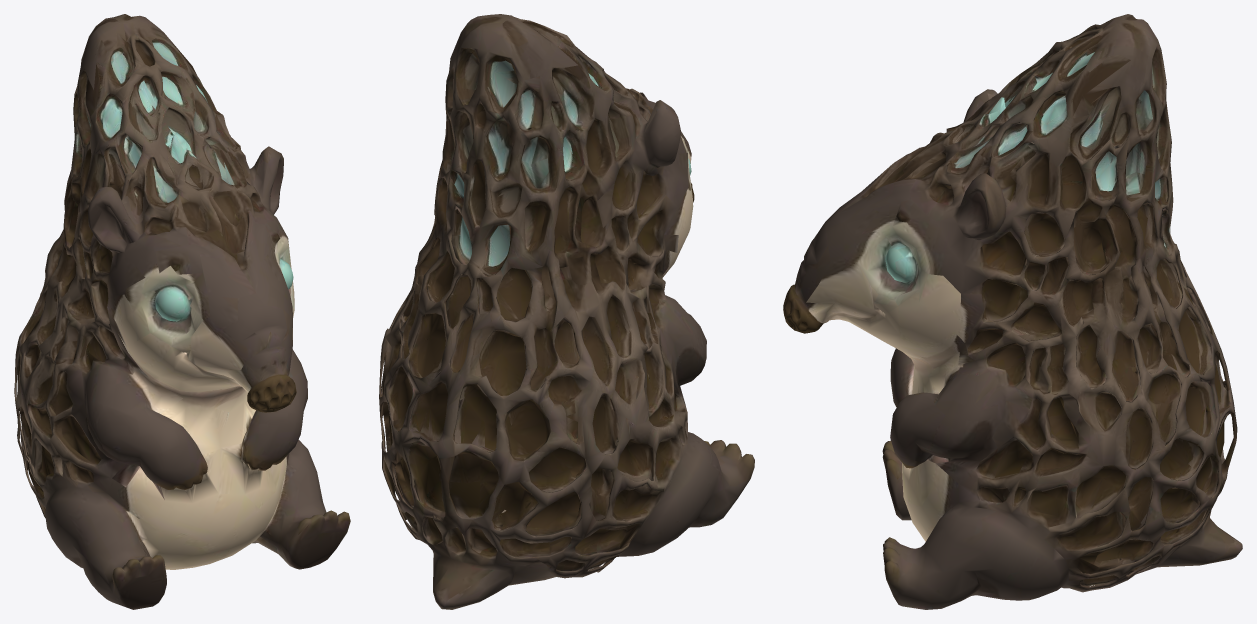
The picture shows the model from 3 angles, left to right: view 1: azimuth 30°, elevation 25°; view 2: azimuth 150°, elevation 25°; view 3: azimuth 270°, elevation 25°; orthographic projection. The views are drawn at different scales.
Parts seen in each view (by area): view 1: Mesh_0; view 2: Mesh_0; view 3: Mesh_0.
Boxes of the visible parts, box(x1,y1,x2,y2) form: Mesh_0: box(14, 14, 350, 609); Mesh_0: box(379, 14, 754, 609); Mesh_0: box(783, 14, 1242, 609).
Bounding box in the file's own units: 1.01 × 1.9 × 1.48.
Materials: 1 (1 with a texture image).
